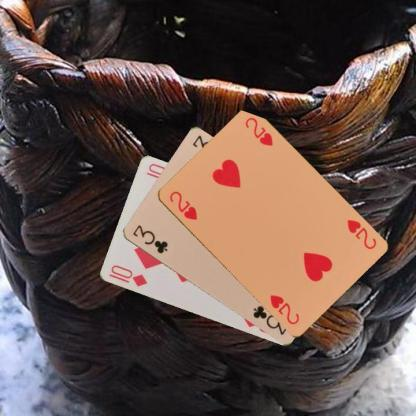10d: (106, 262, 148, 288)
2h: (344, 216, 378, 250), (166, 188, 198, 222)
3c: (130, 222, 170, 255)
